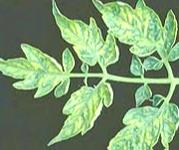Tomato leaf mosaic virus: (91, 2, 176, 69), (50, 3, 120, 73), (46, 84, 115, 148), (103, 96, 178, 149), (0, 48, 75, 101)
